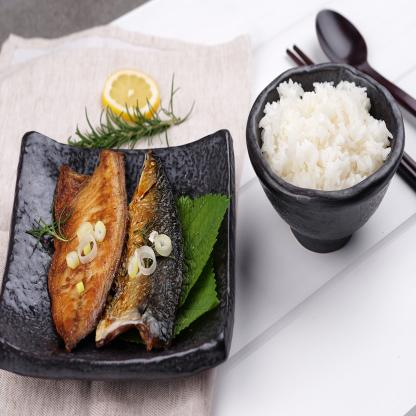Peixe: (41, 130, 195, 370)
